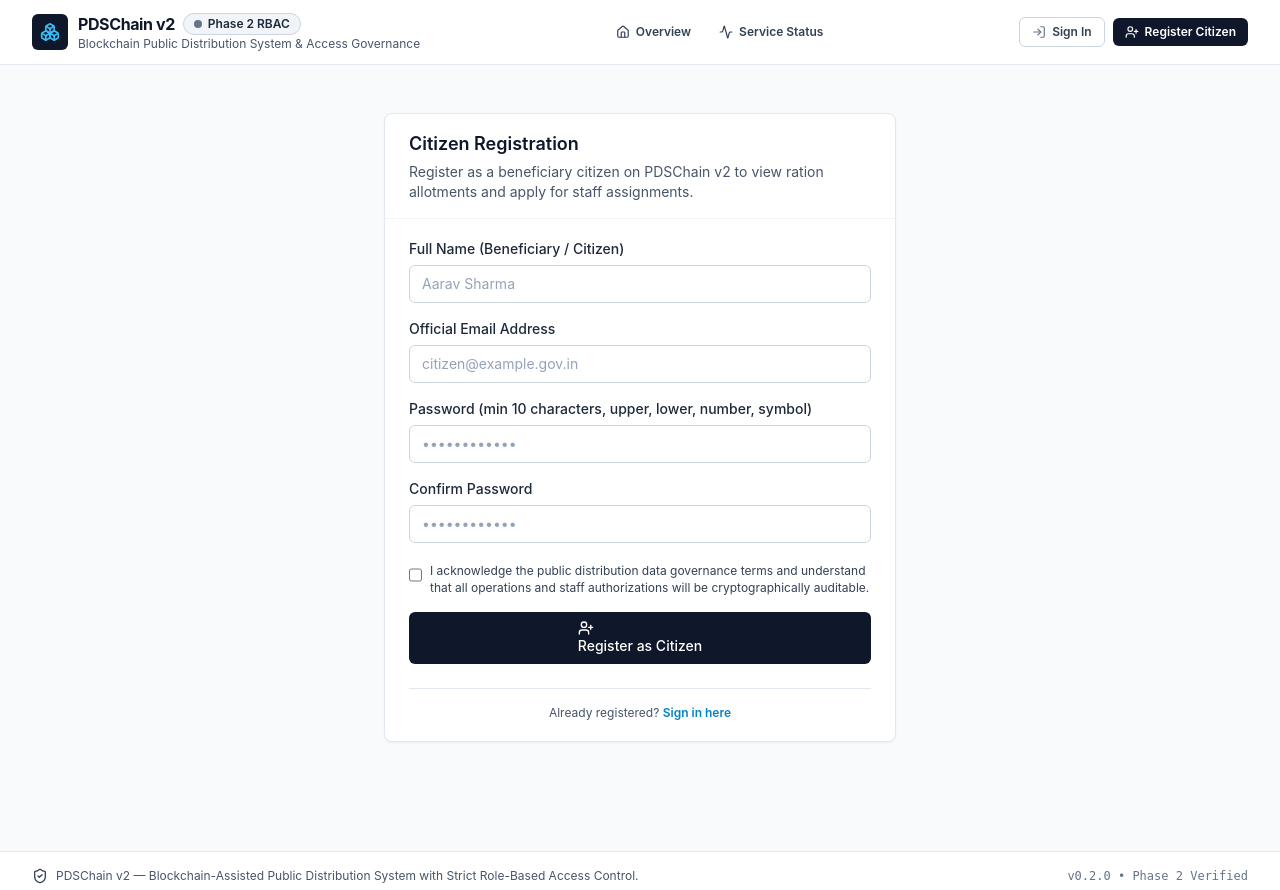
Test: PDSChain v2 Auth & RBAC Frontend Unit Tests › validates registration form client-side: password mismatch prevent submission
The width and height of the screenshot is (1280, 890).
Expected: the heading "Citizen Registration" is shown, left=409, top=133, right=579, bottom=154
Type "Ramesh Kumar" into the field labelled "Full Name (Beneficiary / Citizen)".
click(640, 284); type("Ramesh Kumar")  # box left=409, top=265, right=871, bottom=303
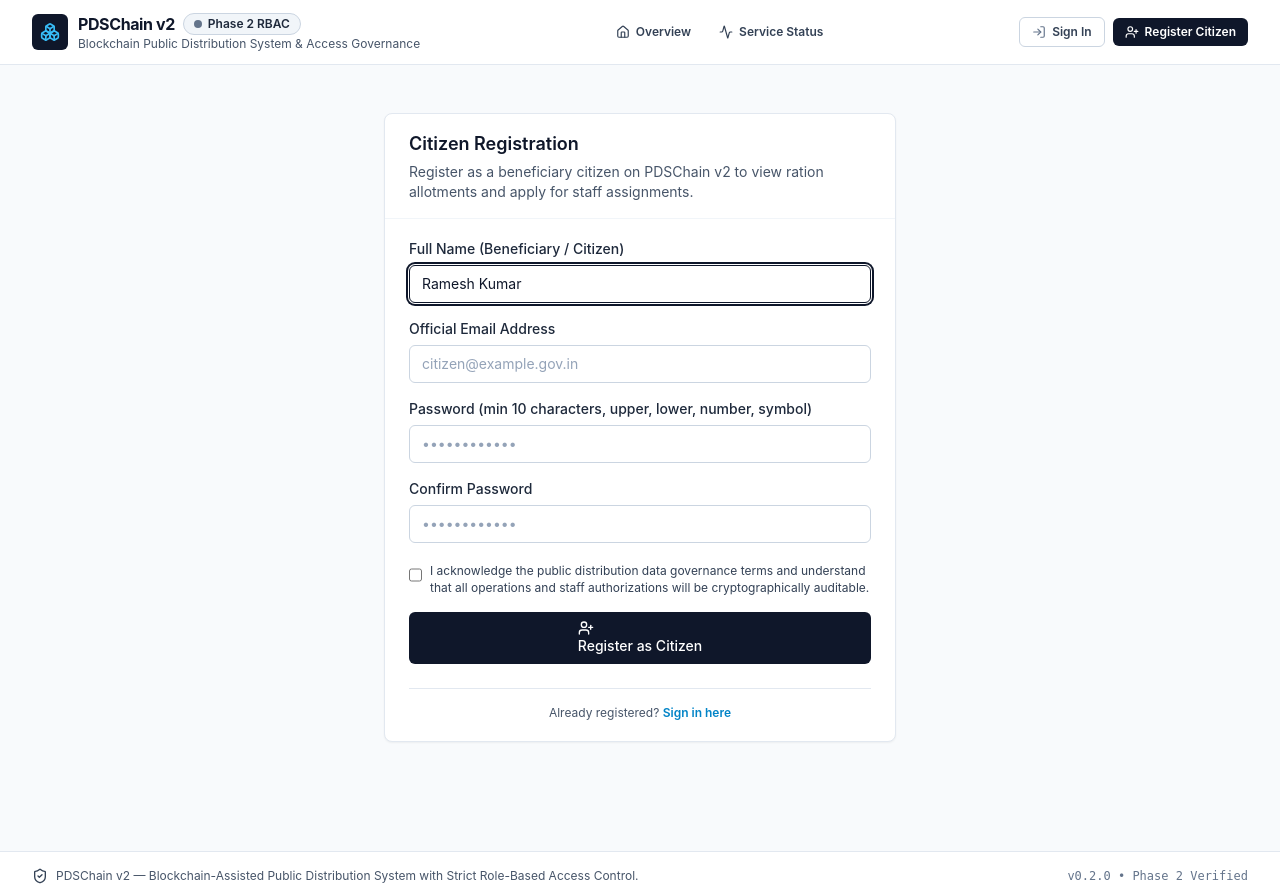
Type "ramesh@example.com" into the field labelled "Official Email Address".
click(640, 364); type("ramesh@example.com")  # box left=409, top=345, right=871, bottom=383
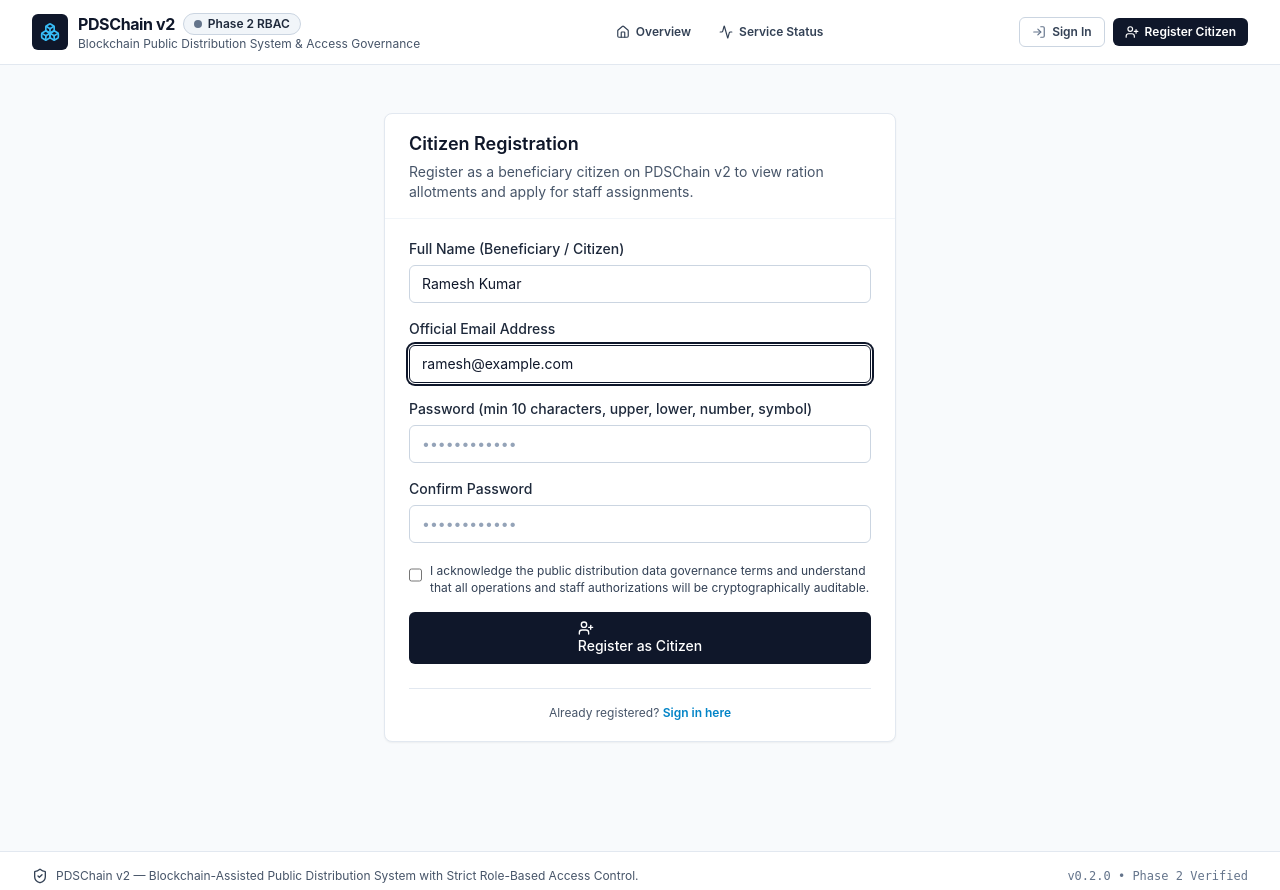
Type "SuperSecurePass123!" into the password field labelled "Password (min 10 characters, upper, lower, number, symbol)".
click(640, 444); type("SuperSecurePass123!")  # box left=409, top=425, right=871, bottom=463
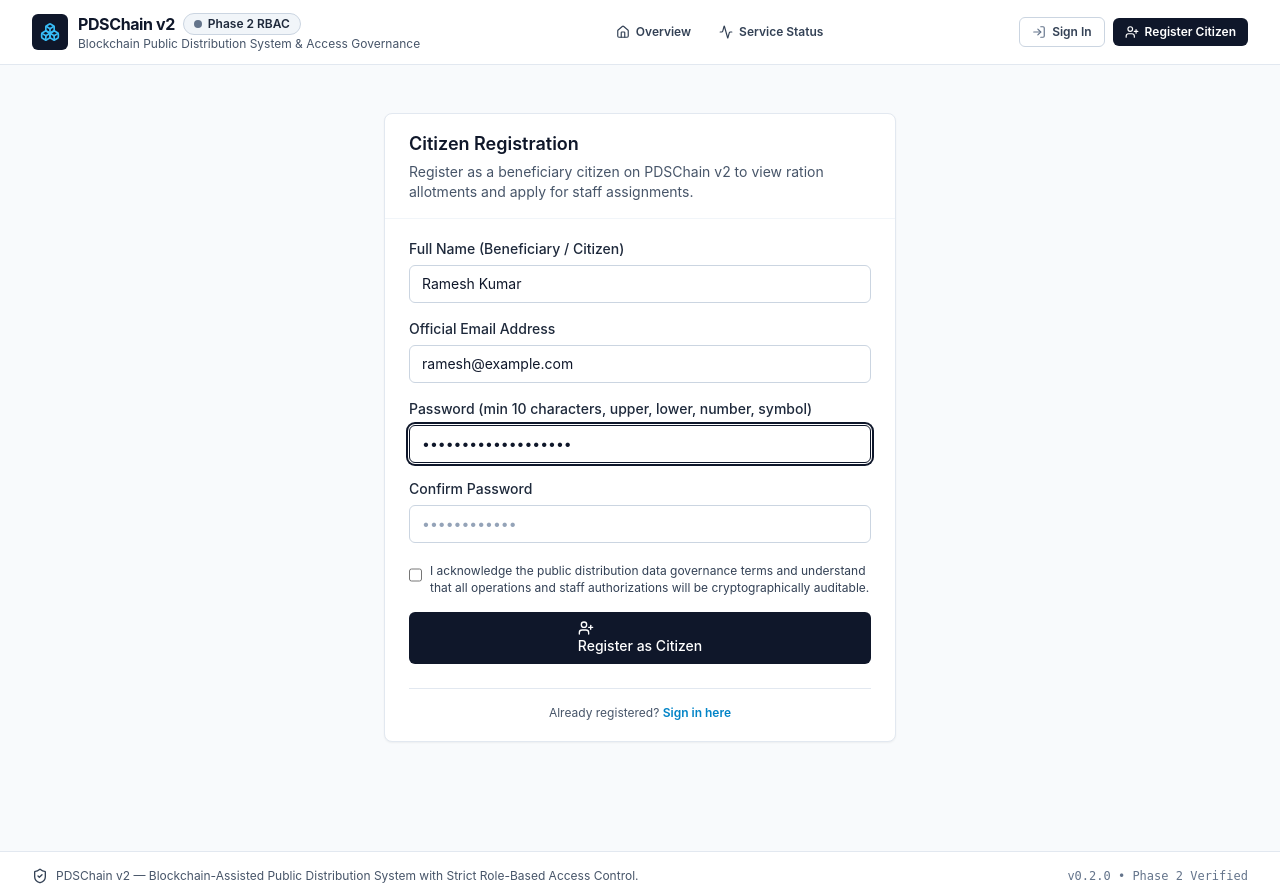
Type "DifferentPassword456!" into the password field labelled "Confirm Password".
click(640, 524); type("DifferentPassword456!")  # box left=409, top=505, right=871, bottom=543
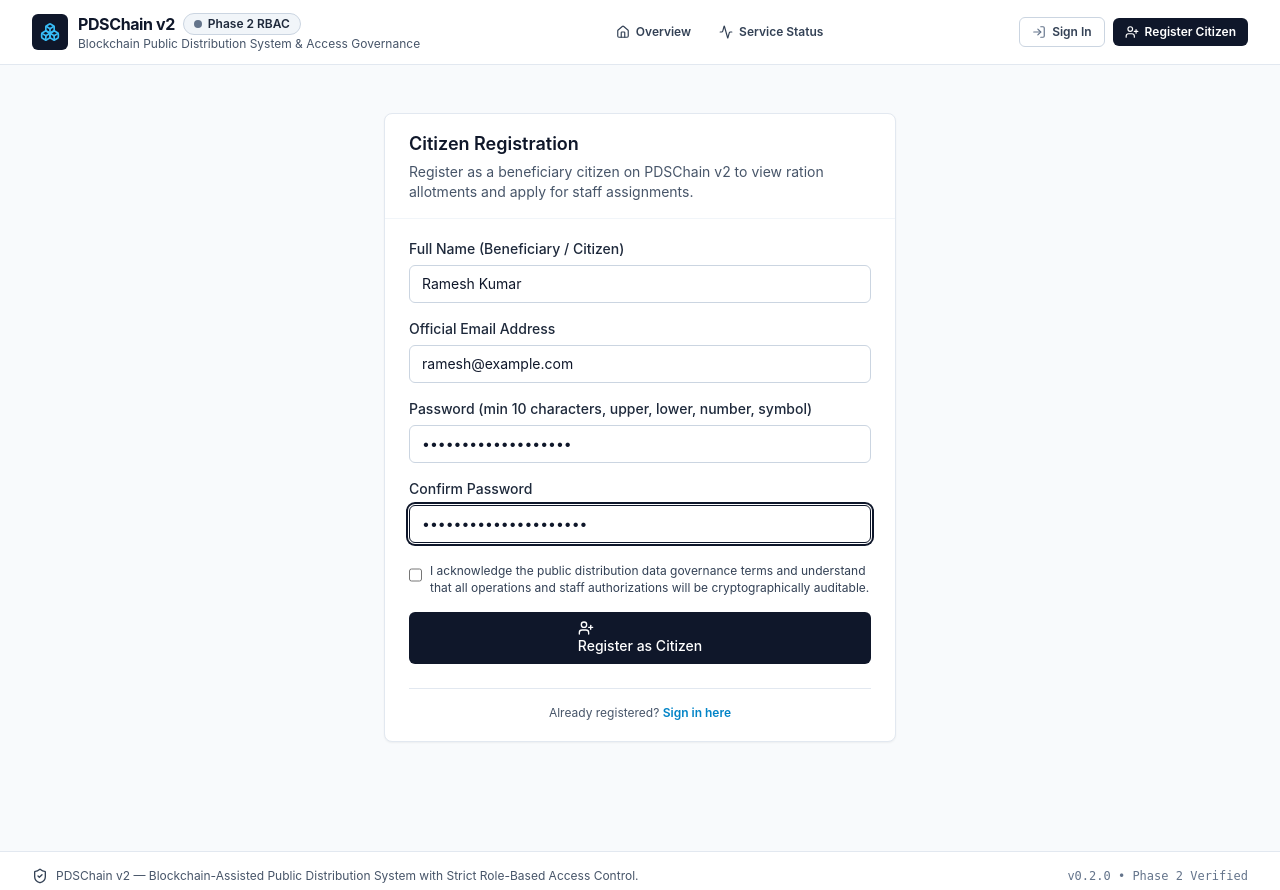
Click the checkbox.
click(416, 575)  # box left=409, top=567, right=422, bottom=583
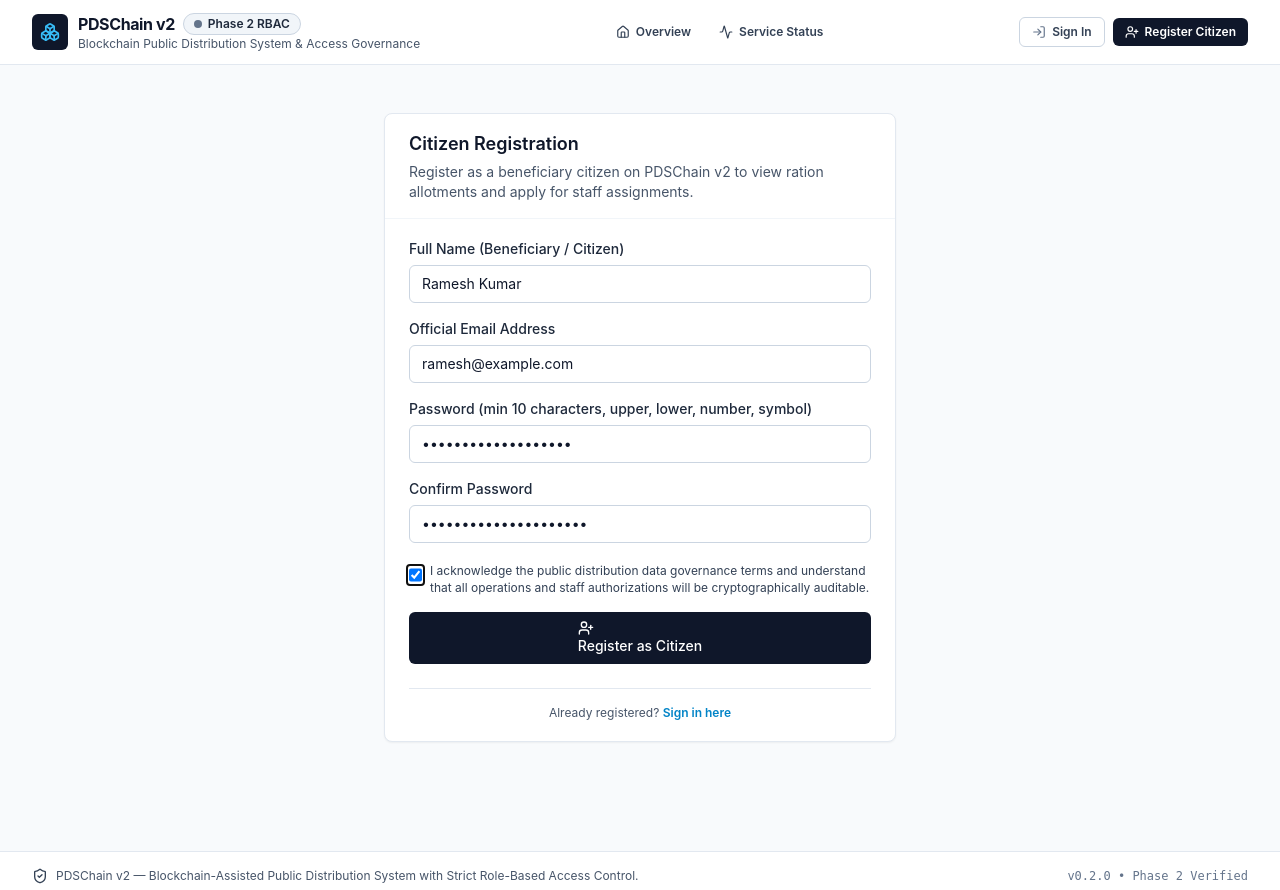
Click the button "Register as Citizen".
click(640, 638)  # box left=409, top=612, right=871, bottom=664
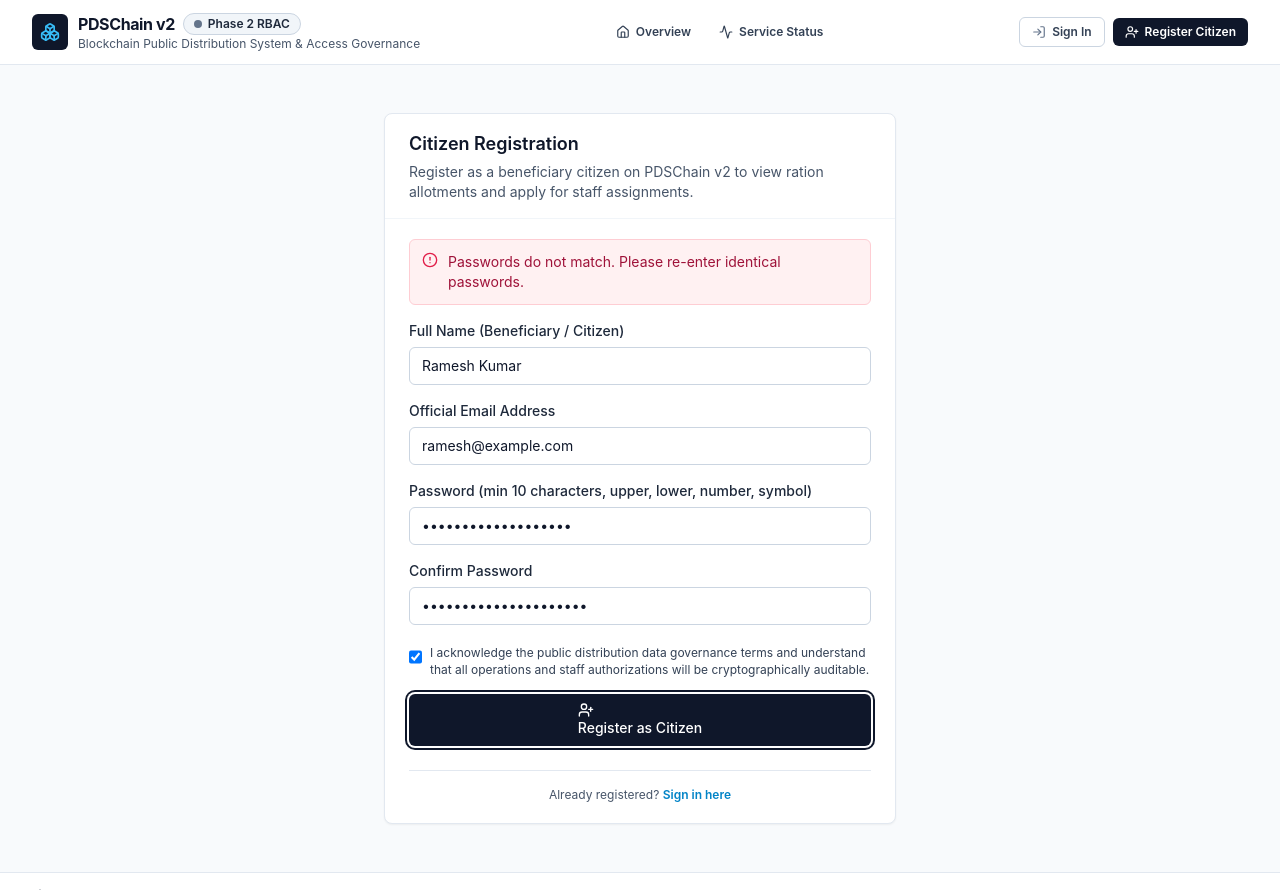
Result: the text "Passwords do not match. Please re-enter identical passwords." is shown at left=448, top=253, right=781, bottom=290
